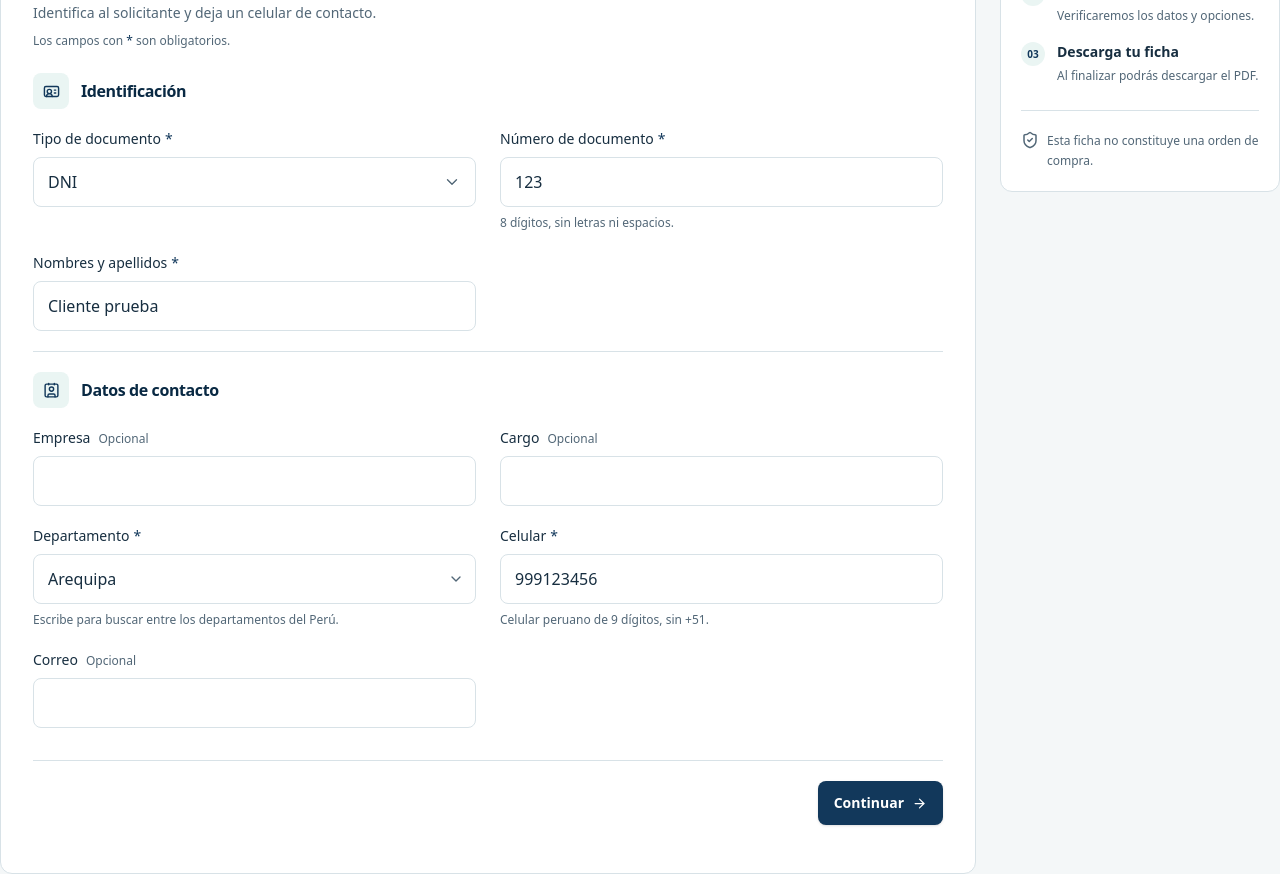
Scenario: Flujo público FRI › impide avanzar con DNI incompleto y enfoca el campo con error
(page scrolled)
Step 1. Click the button "Continuar" → point(880, 803), box [818,781,943,825]
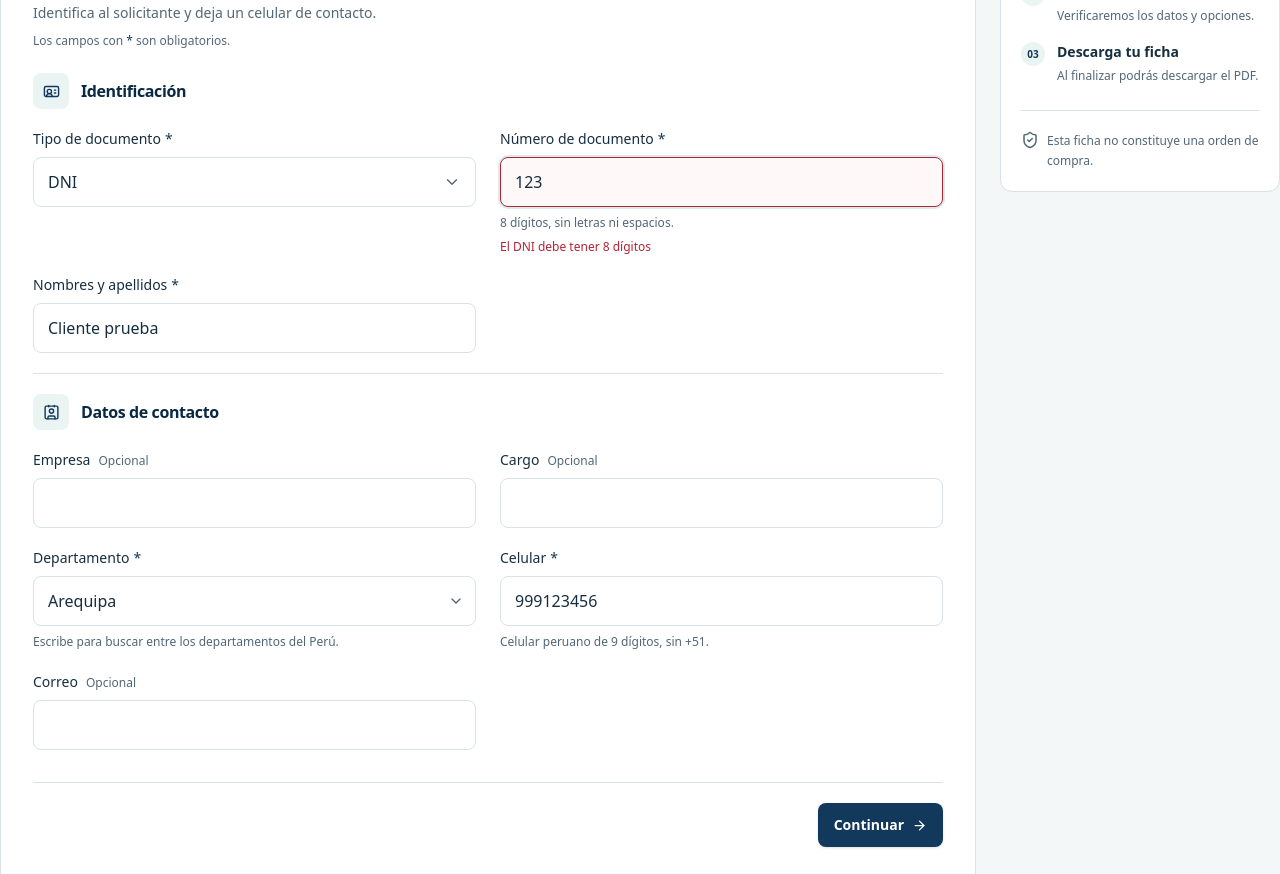
expect the text "El DNI debe tener 8 dígitos" is shown: met, box [500,238,651,255]
